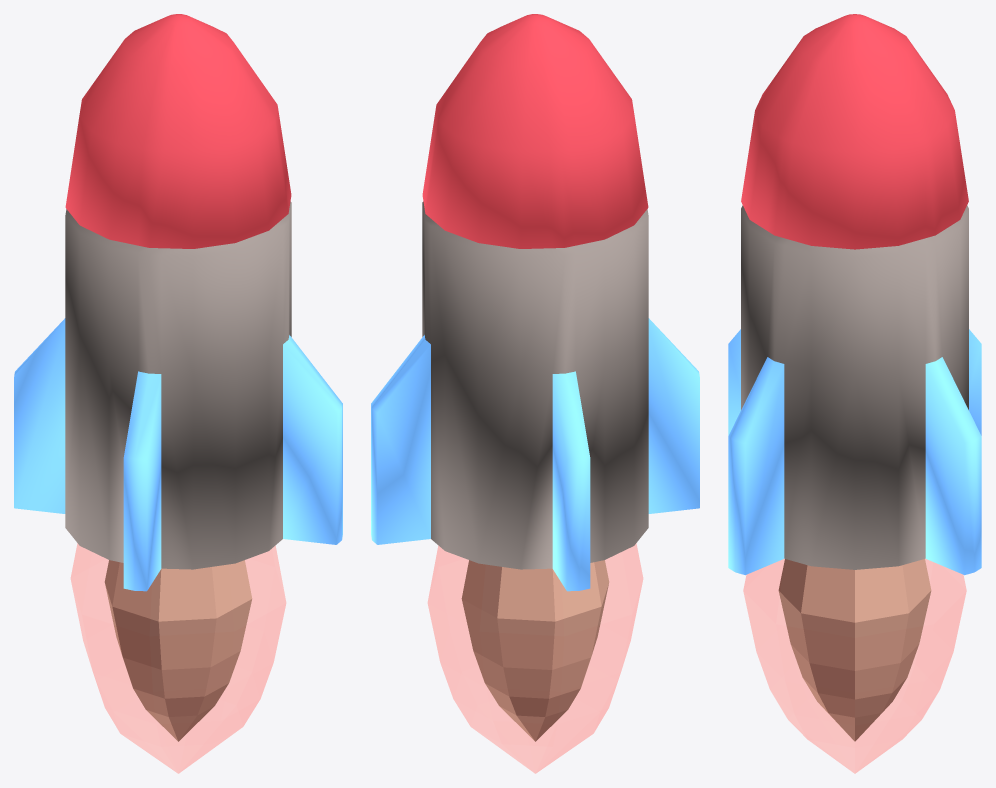
The model's file is EnemyRocket.fbx.
3 views of the same model, side by side, from view 1: azimuth 30°, elevation 25°; view 2: azimuth 150°, elevation 25°; view 3: azimuth 270°, elevation 25° (orthographic).
Visible parts, largest first — view 1: Rocket, Cylinder; view 2: Rocket, Cylinder; view 3: Rocket, Cylinder.
Boxes of the visible parts, <box> form: Rocket: <box>14,14,342,591</box>; Cylinder: <box>71,543,285,773</box>; Rocket: <box>371,14,699,591</box>; Cylinder: <box>428,543,642,773</box>; Rocket: <box>728,14,981,575</box>; Cylinder: <box>743,559,966,773</box>.
Bounding box in the file's own units: 143 × 473 × 143.
